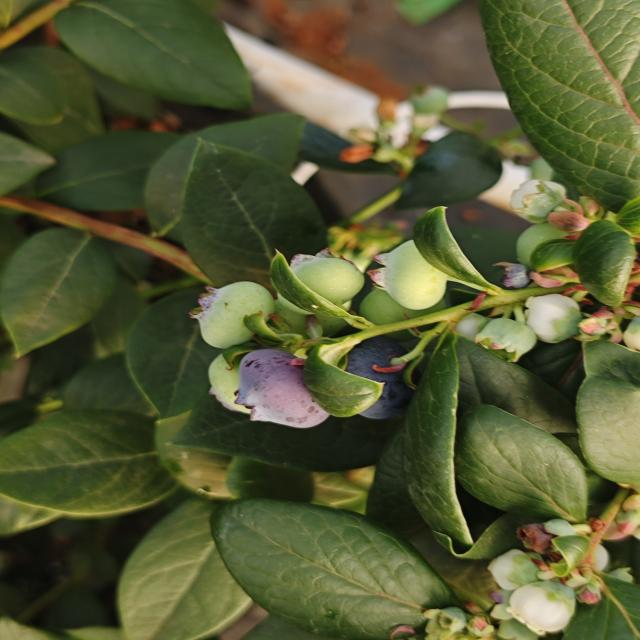ripe: (223, 341, 334, 432), (343, 324, 418, 417)
